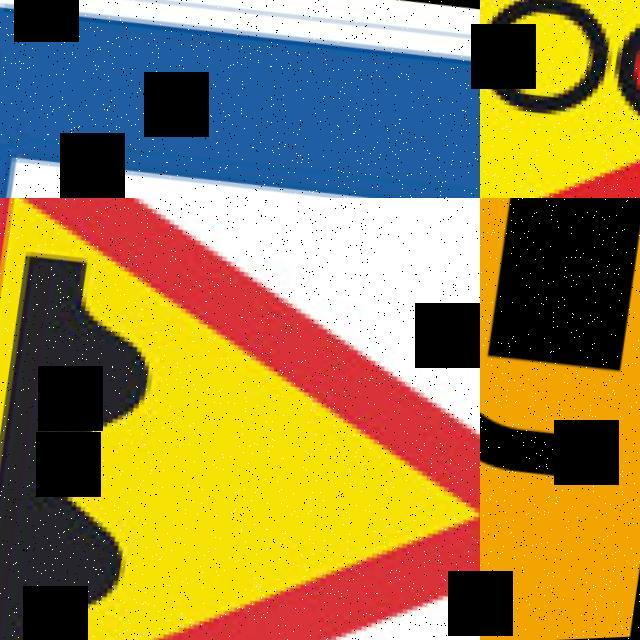140: (480, 0, 640, 198)
63: (480, 198, 640, 640)
86: (0, 0, 480, 198)
Uneven road: (0, 198, 480, 640)
